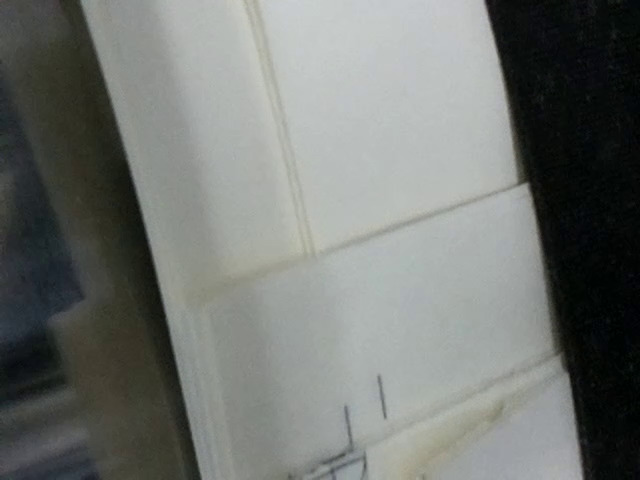not_sure: (271, 404, 382, 480)
